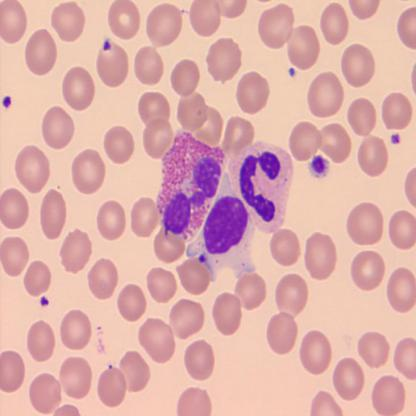Eosinophil: (156, 130, 226, 244)
